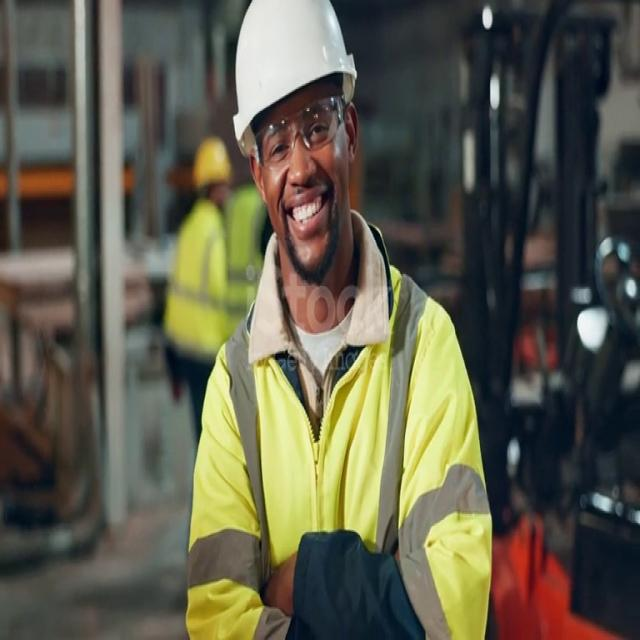capacete: (201, 4, 372, 162)
